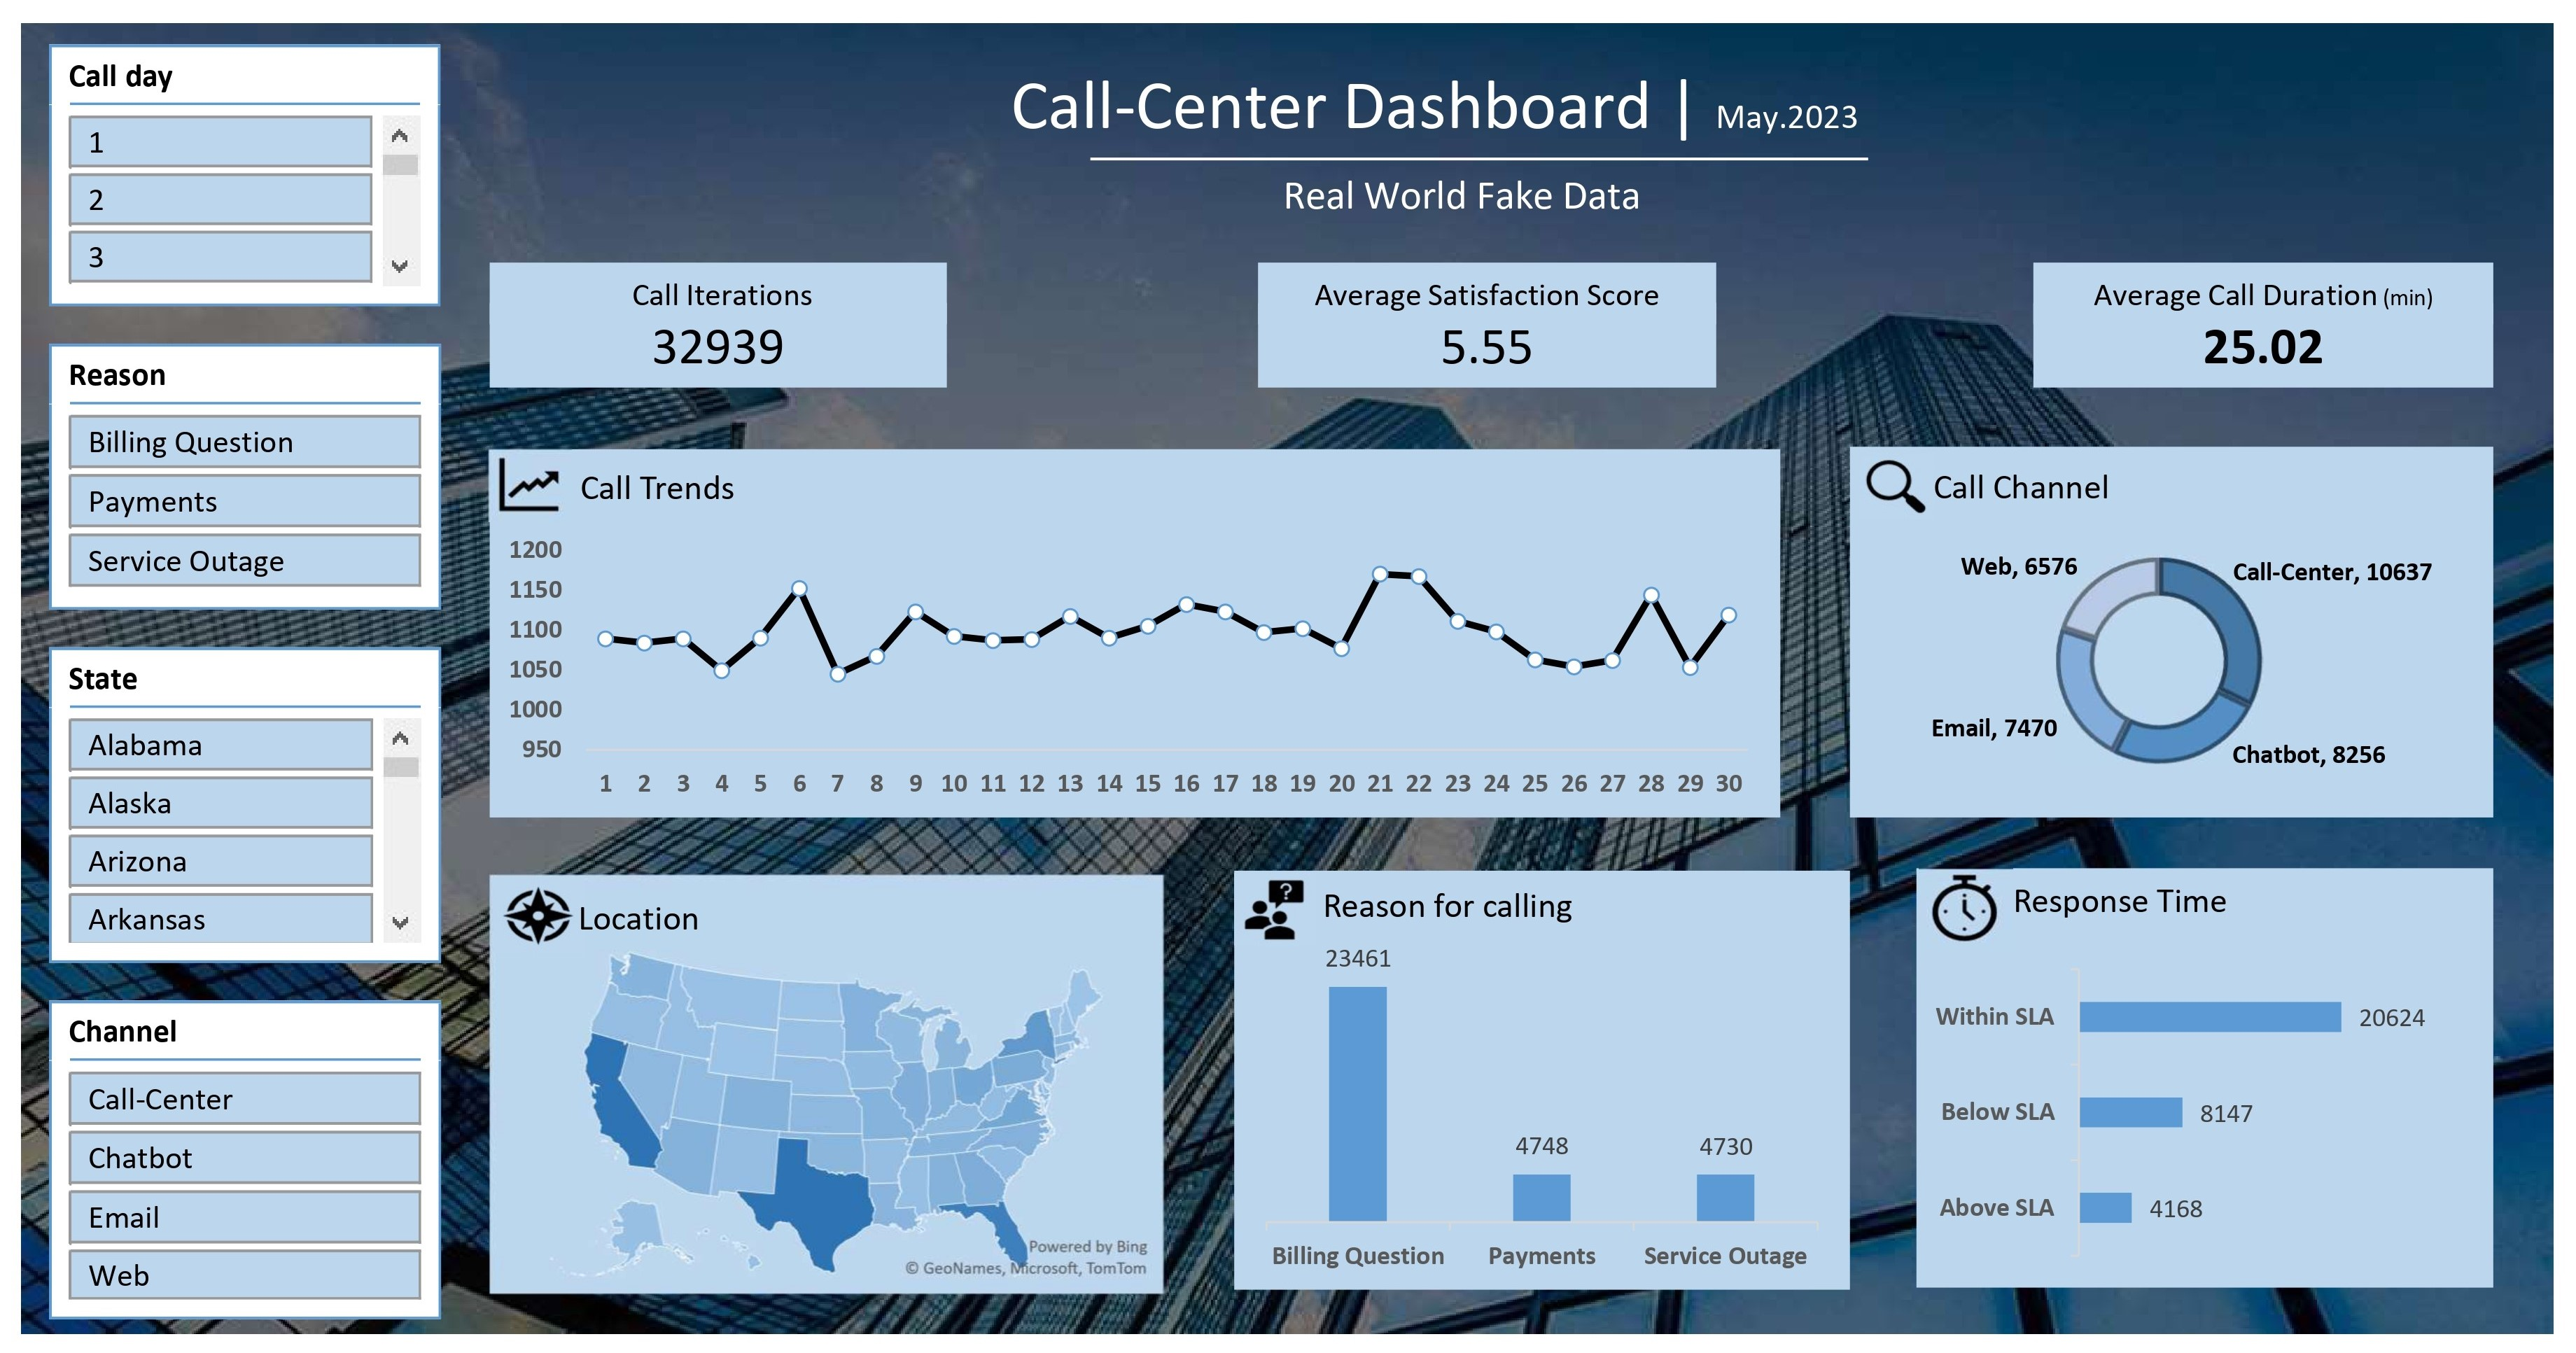

This screenshot's page, from the dashboard's own definition file:
{"tool":"powerbi","page":{"name":"Dashboard","canvas":[1280,720],"ordinal":0},"visuals":[{"type":"shape","box":[14.7,11.8,203.3,693.8],"z":0,"group":"g1"},{"type":"group","id":"g1","title":"Group 1","box":[14,9.8,1233.4,695.8],"z":1000},{"type":"slicer","fields":{"Values":["Call_Center.call_day"]},"box":[34,65.2,164.4,72.3],"z":1000,"group":"g1"},{"type":"slicer","fields":{"Values":["Call_Center.reason"]},"box":[34,159.7,164.4,120.5],"z":2000,"group":"g1"},{"type":"slicer","fields":{"Values":["Call_Center.state"]},"box":[34,302.4,164.4,215.5],"z":3000,"group":"g1"},{"type":"textbox","box":[14,26.1,202.4,27.8],"z":4000,"group":"g1"},{"type":"slicer","fields":{"Values":["Call_Center.channel"]},"box":[34,540.1,164.4,146],"z":5000,"group":"g1"},{"type":"textbox","box":[482.2,9.8,424.6,56.1],"z":6000,"group":"g1"},{"type":"shape","box":[531.8,39.7,326,38.3],"z":7000,"group":"g1"},{"type":"card","fields":{"Values":["CountNonNull(Call_Center.id)"]},"box":[239.6,100.7,113.4,78],"z":8000,"group":"g1"},{"type":"textbox","box":[604.1,59.6,181.4,41.1],"z":9000,"group":"g1"},{"type":"lineChart","title":"Call Trends","fields":{"Category":["Call_Center.call_day"],"Y":["CountNonNull(Call_Center.id)"]},"box":[239.2,202.6,627.2,239.2],"z":10000,"group":"g1"},{"type":"card","fields":{"Values":["Call_Center.avg_talk_time"]},"box":[1033.5,100.1,213.5,78.1],"z":11000,"group":"g1"},{"type":"card","fields":{"Values":["Avg(Call_Center.csat_score)"]},"box":[591.2,100.7,204.1,78],"z":12000,"group":"g1"},{"type":"donutChart","title":"Call Channel","fields":{"Category":["Call_Center.channel"],"Y":["CountNonNull(Call_Center.id)"]},"box":[898.1,202.6,349,239.2],"z":13000,"group":"g1"},{"type":"shapeMap","title":"Location","fields":{"Category":["Call_Center.state"],"Value":["CountNonNull(Call_Center.id)"]},"box":[239.2,467.4,346.5,228.2],"z":14000,"group":"g1"},{"type":"columnChart","title":"Reason for calling","fields":{"Category":["Call_Center.reason"],"Y":["CountNonNull(Call_Center.reason)"]},"box":[617.4,467.4,300.2,228.2],"z":15000,"group":"g1"},{"type":"barChart","title":"Response time","fields":{"Category":["Call_Center.response_time"],"Y":["CountNonNull(Call_Center.response_time)"]},"box":[948.3,466.4,299.1,228.2],"z":16000,"group":"g1"}]}

Visuals, with their boxes in screenshot pixels (x1, y1, x2, y2):
shape: 14:22:391:1310
"Group 1" group: 13:18:2302:1310
slicer - Call_Center.call_day: 50:121:355:255
slicer - Call_Center.reason: 50:296:355:520
slicer - Call_Center.state: 50:561:355:961
textbox: 13:48:388:100
slicer - Call_Center.channel: 50:1002:355:1273
textbox: 881:18:1669:122
shape: 974:73:1578:145
card - CountNonNull(Call_Center.id): 431:187:642:332
textbox: 1108:111:1445:187
"Call Trends" lineChart: 430:376:1595:820
card - Call_Center.avg_talk_time: 1905:185:2301:330
card - Avg(Call_Center.csat_score): 1084:187:1463:332
"Call Channel" donutChart: 1653:376:2302:820
"Location" shapeMap: 430:867:1074:1291
"Reason for calling" columnChart: 1133:867:1690:1291
"Response time" barChart: 1746:866:2302:1289
